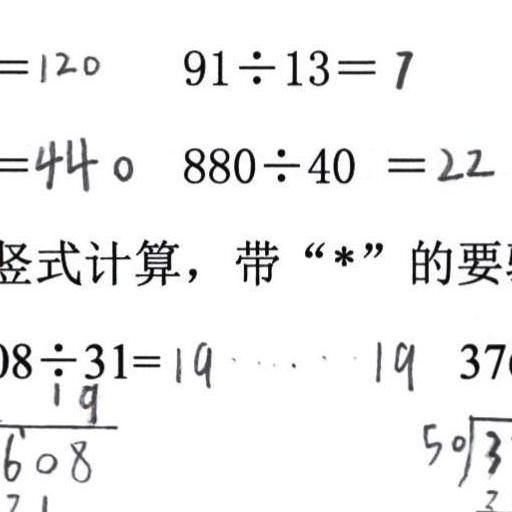ans: (171, 334, 416, 394), (29, 131, 134, 192), (432, 139, 493, 183), (33, 44, 99, 82), (387, 43, 415, 90)
